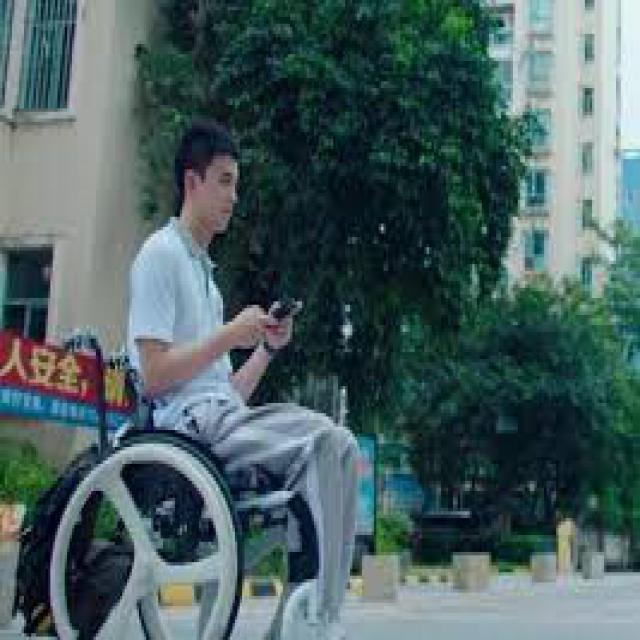wheelchairs: (39, 328, 348, 636)
